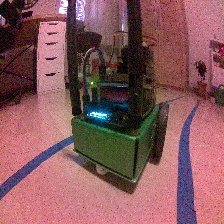rob: (69, 45, 169, 184)
